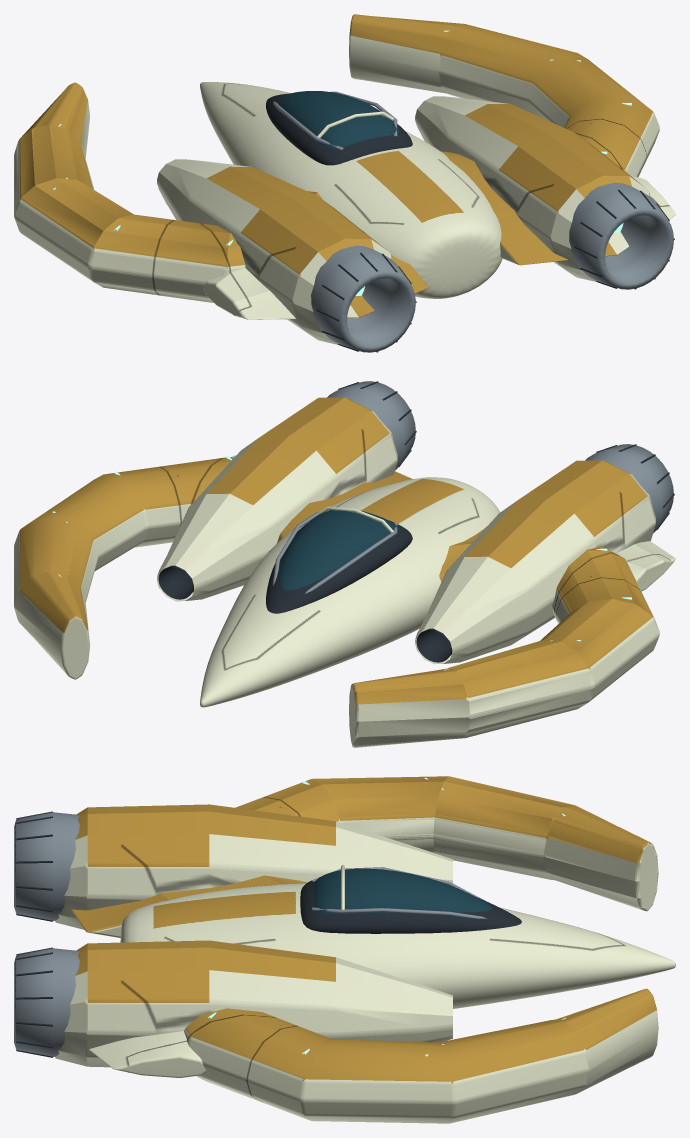
Rendered from runtime.glb.
3 renders of one model, top to bottom at view 1: azimuth 30°, elevation 25°; view 2: azimuth 150°, elevation 25°; view 3: azimuth 270°, elevation 25°, orthographic. The views are drawn at different scales.
Visible parts, largest first — view 1: AegisCometV2; view 2: AegisCometV2; view 3: AegisCometV2.
Boxes of the visible parts, <box> form: AegisCometV2: <box>14,14,675,352</box>; AegisCometV2: <box>14,381,675,747</box>; AegisCometV2: <box>14,776,675,1123</box>.
Bounding box in the file's own units: 3.14 × 0.6313 × 2.88.
6 materials, 2 textured.
